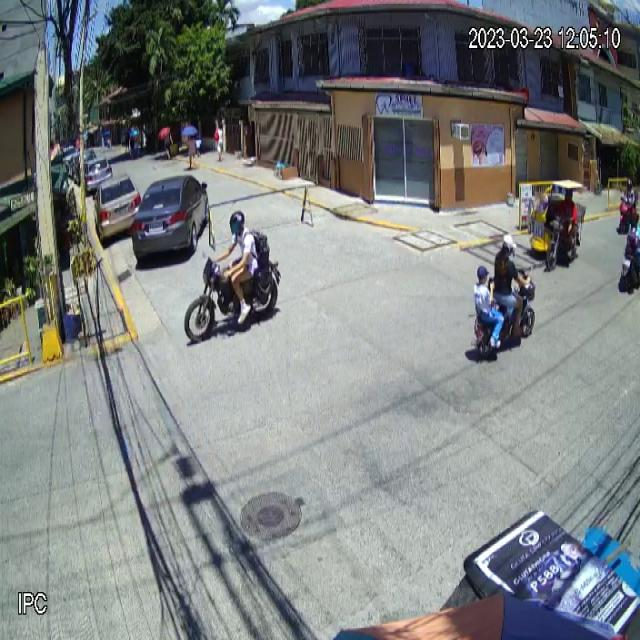Car: (132, 174, 210, 260)
Motorcycle: (182, 258, 284, 344)
Tricycle: (528, 179, 586, 273)
